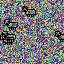sheep: (3, 18, 18, 31), (22, 6, 37, 17), (55, 30, 64, 42)
